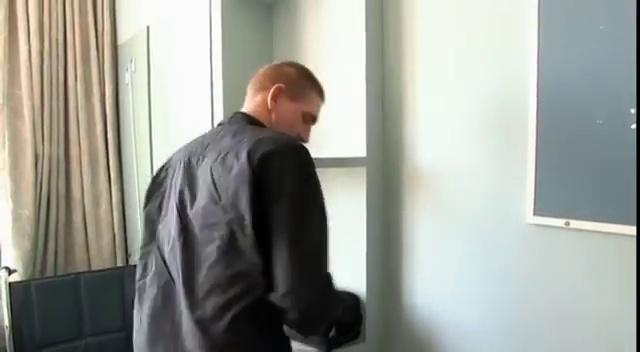others: (117, 55, 364, 352)
